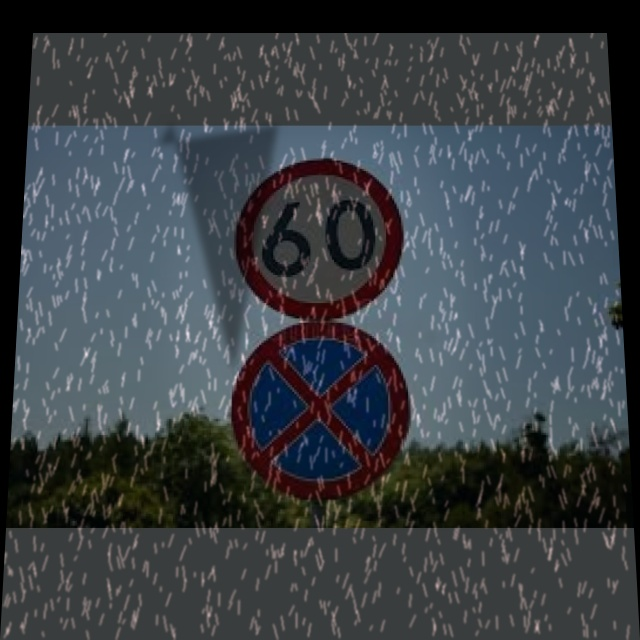Speed_Limit_60: (238, 159, 402, 320)
